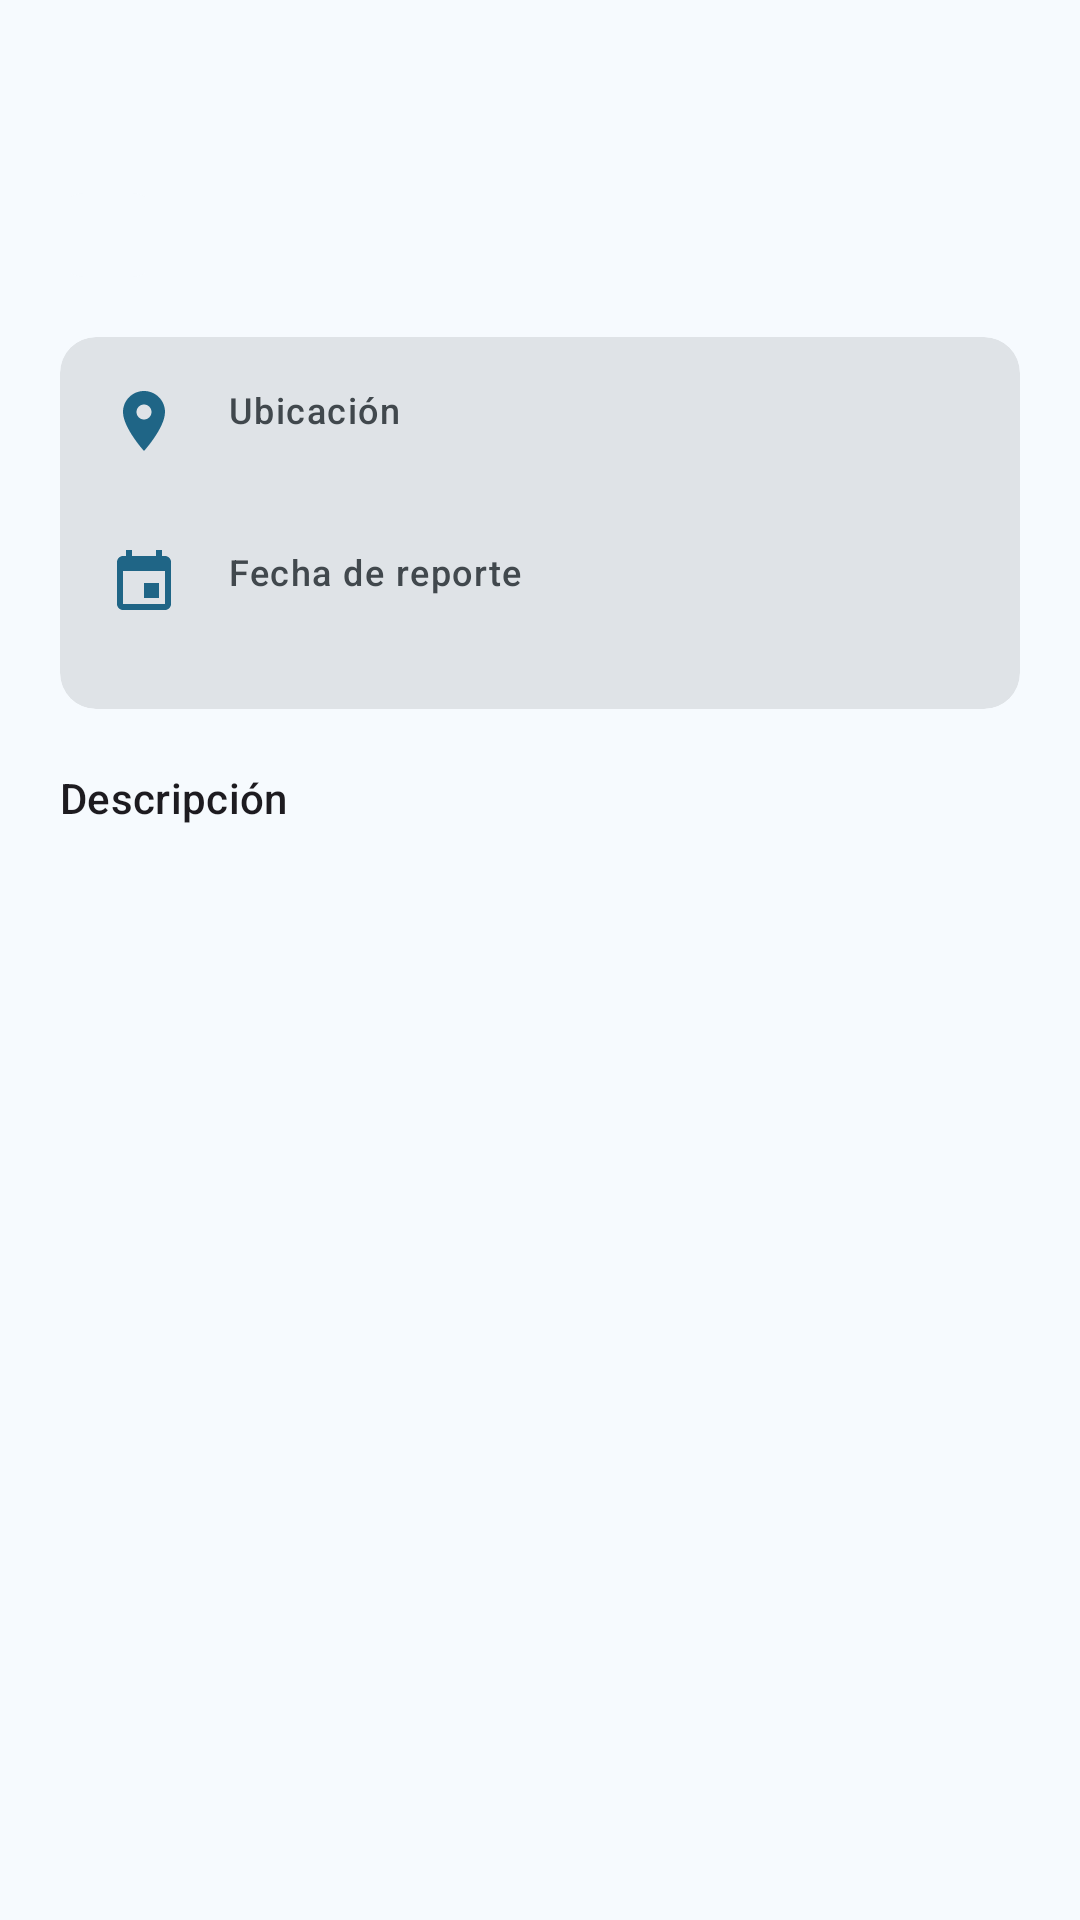

Named icons in this screenshot (1080x1920) and their bounding boxes, (x1, y1, x2, y2):
ubicacion: (123, 391, 165, 451)
